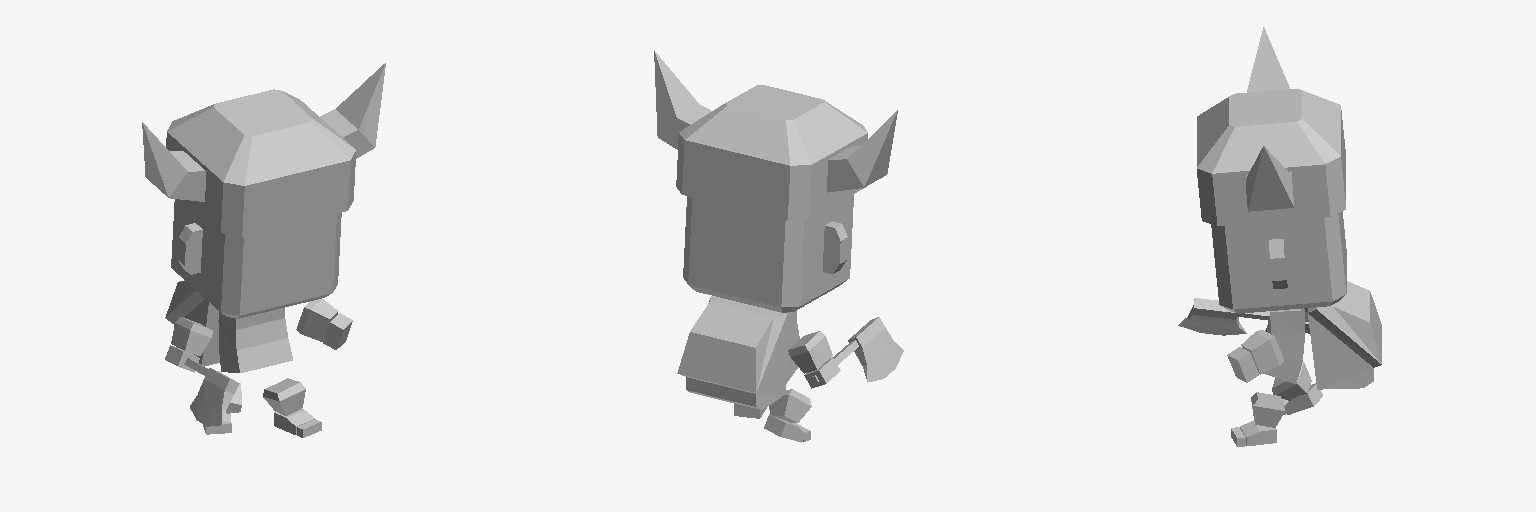
File: mini_knight_000028.obj
3 renders of one model, left to right at view 1: azimuth 30°, elevation 25°; view 2: azimuth 150°, elevation 25°; view 3: azimuth 270°, elevation 25°, orthographic.
Parts seen in each view (by area): view 1: cap_Object01_Material__3, Mesh_objheadusOBJexport_Material, back_Object03_Material__3, axe_Object02_Material__3; view 2: cap_Object01_Material__3, Mesh_objheadusOBJexport_Material, back_Object03_Material__3, axe_Object02_Material__3; view 3: cap_Object01_Material__3, Mesh_objheadusOBJexport_Material, back_Object03_Material__3, axe_Object02_Material__3.
Part boxes in pixels (x1,y1,x2,y2): cap_Object01_Material__3: (142, 63, 385, 236); Mesh_objheadusOBJexport_Material: (165, 199, 352, 437); back_Object03_Material__3: (165, 280, 219, 366); axe_Object02_Material__3: (184, 358, 239, 426); cap_Object01_Material__3: (654, 50, 897, 220); Mesh_objheadusOBJexport_Material: (683, 194, 853, 442); back_Object03_Material__3: (677, 296, 786, 409); axe_Object02_Material__3: (810, 317, 903, 383); cap_Object01_Material__3: (1197, 27, 1345, 225); Mesh_objheadusOBJexport_Material: (1211, 211, 1346, 446); back_Object03_Material__3: (1308, 281, 1381, 389); axe_Object02_Material__3: (1178, 298, 1269, 335).
Bounding box in the file's own units: 1.94 × 2.58 × 1.41.